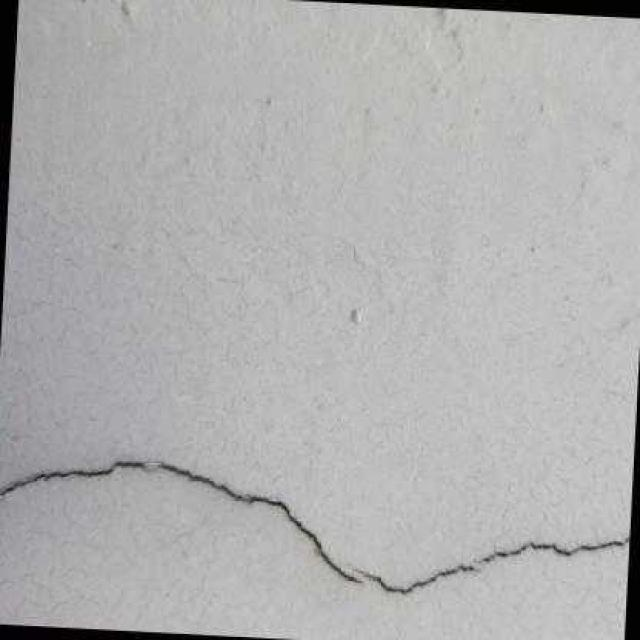D00: (155, 461, 359, 581), (353, 536, 629, 591), (0, 459, 141, 494)
